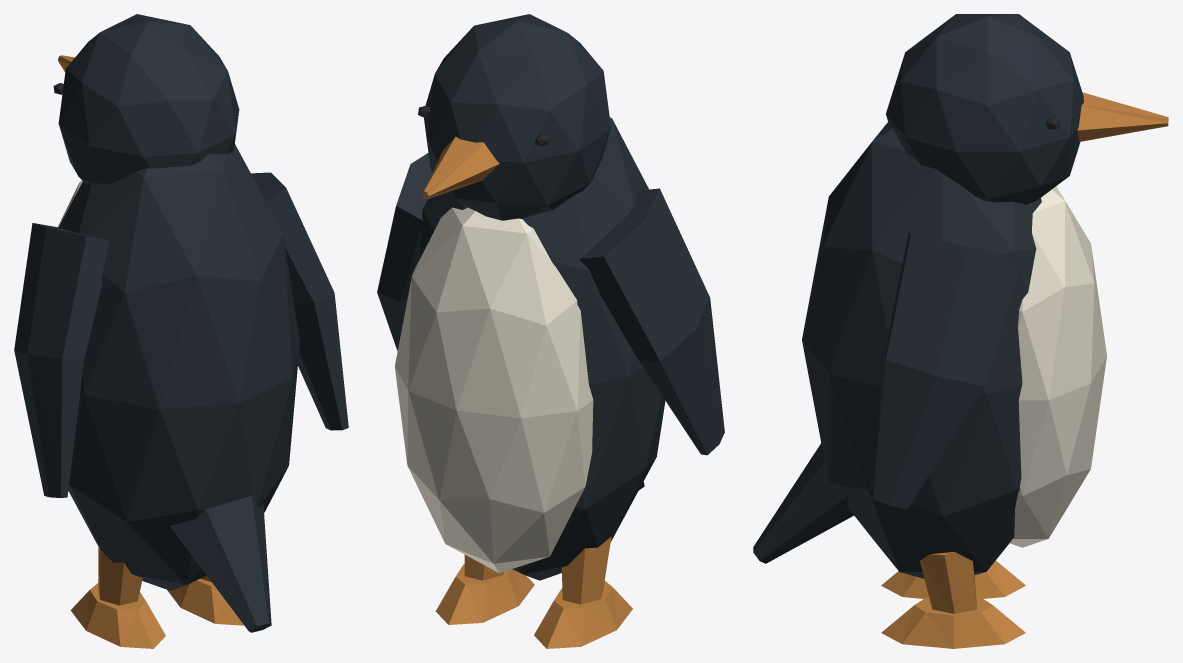
The model's file is penguin.fbx.
3 views of the same model, side by side, from view 1: azimuth 30°, elevation 25°; view 2: azimuth 150°, elevation 25°; view 3: azimuth 270°, elevation 25° (orthographic). The views are drawn at different scales.
Visible parts, largest first — view 1: penguin; view 2: penguin; view 3: penguin.
Boxes of the visible parts, x1,y1,x2,y2 form: penguin: (14,14,348,648); penguin: (377,14,724,648); penguin: (753,14,1168,648).
Bounding box in the file's own units: 0.5858 × 1.1 × 0.698.
